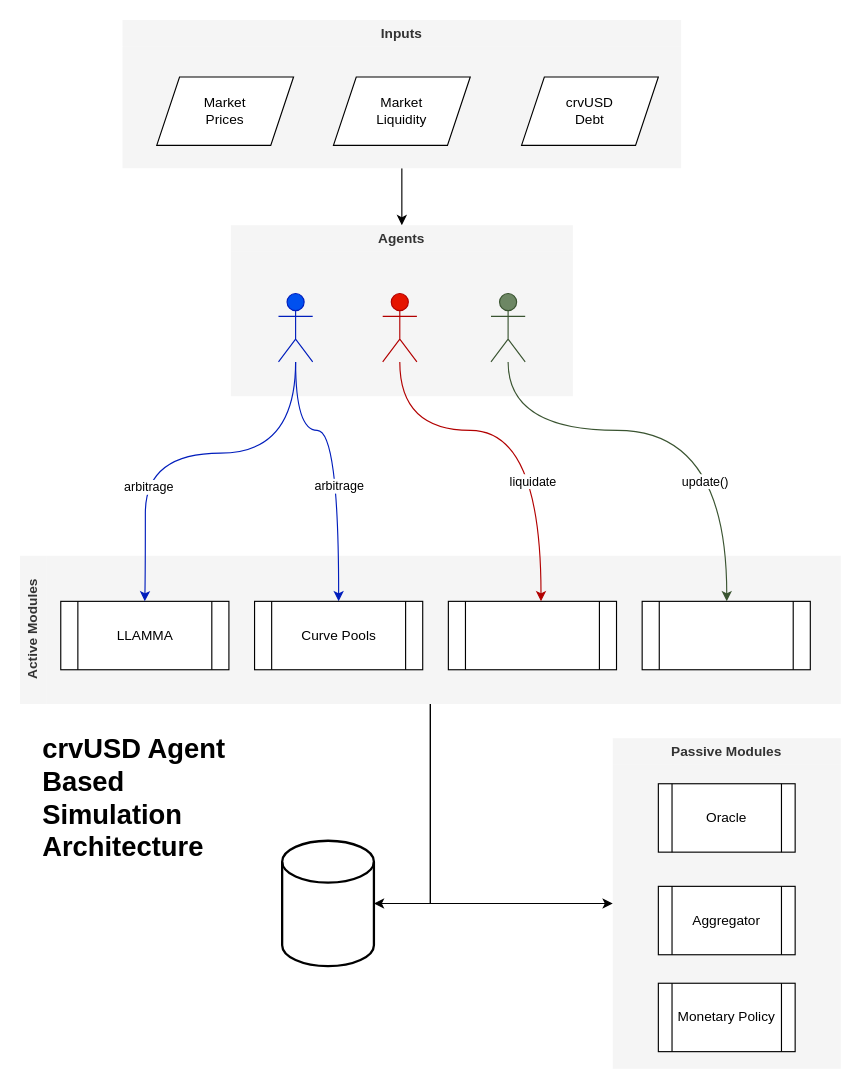
Some shapes in this 860 by 1088 pixel diagram are drawn without their labels. Here are the shapes that lost their labels. From the top down, the centre of each, then its label:
At [295,327]: "Arbitrageur".
At [399,327]: "Liquidator".
At [507,327]: "Keeper".
At [532,635]: "Controller".
At [725,635]: "Peg Keeper".
At [327,903]: "Metrics Data Storage".
